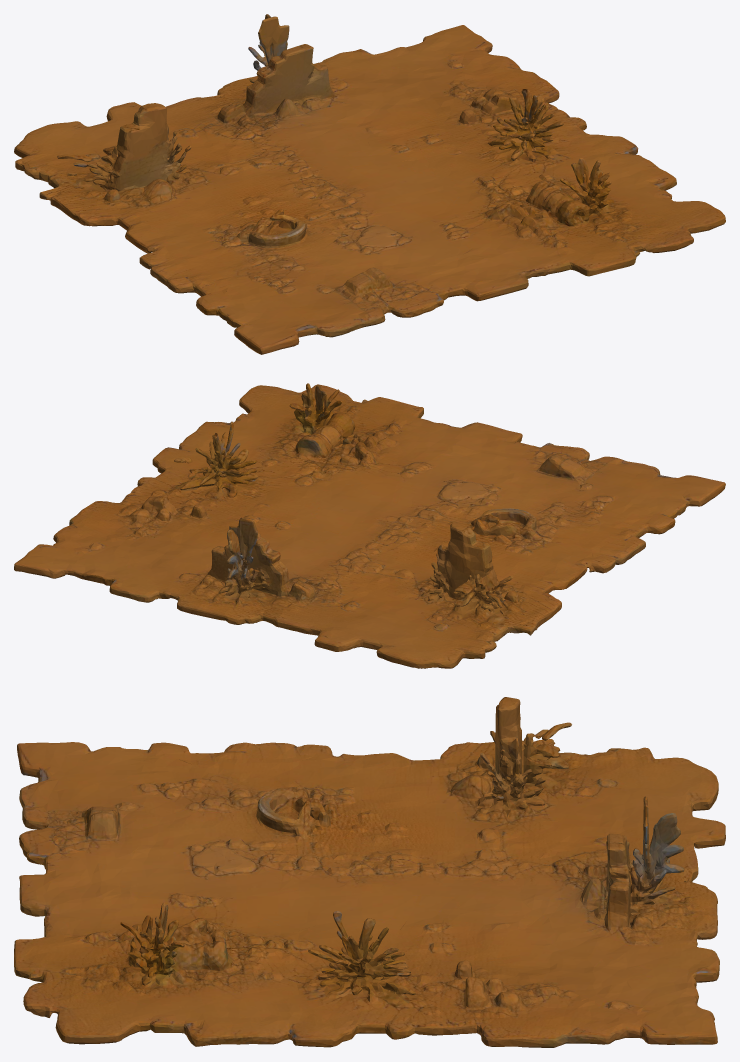
The model's file is desert-ground-3.glb.
3 renders of one model, top to bottom at view 1: azimuth 30°, elevation 25°; view 2: azimuth 150°, elevation 25°; view 3: azimuth 270°, elevation 25°, orthographic. The views are drawn at different scales.
Parts seen in each view (by area): view 1: textured_mesh.obj; view 2: textured_mesh.obj; view 3: textured_mesh.obj.
Boxes of the visible parts, left/top/right/bottom form: textured_mesh.obj: left=14, top=14, right=725, bottom=354; textured_mesh.obj: left=14, top=383, right=725, bottom=668; textured_mesh.obj: left=14, top=697, right=725, bottom=1047.
Bounding box in the file's own units: 1.99 × 0.3459 × 1.99.
1 material, 1 textured.
